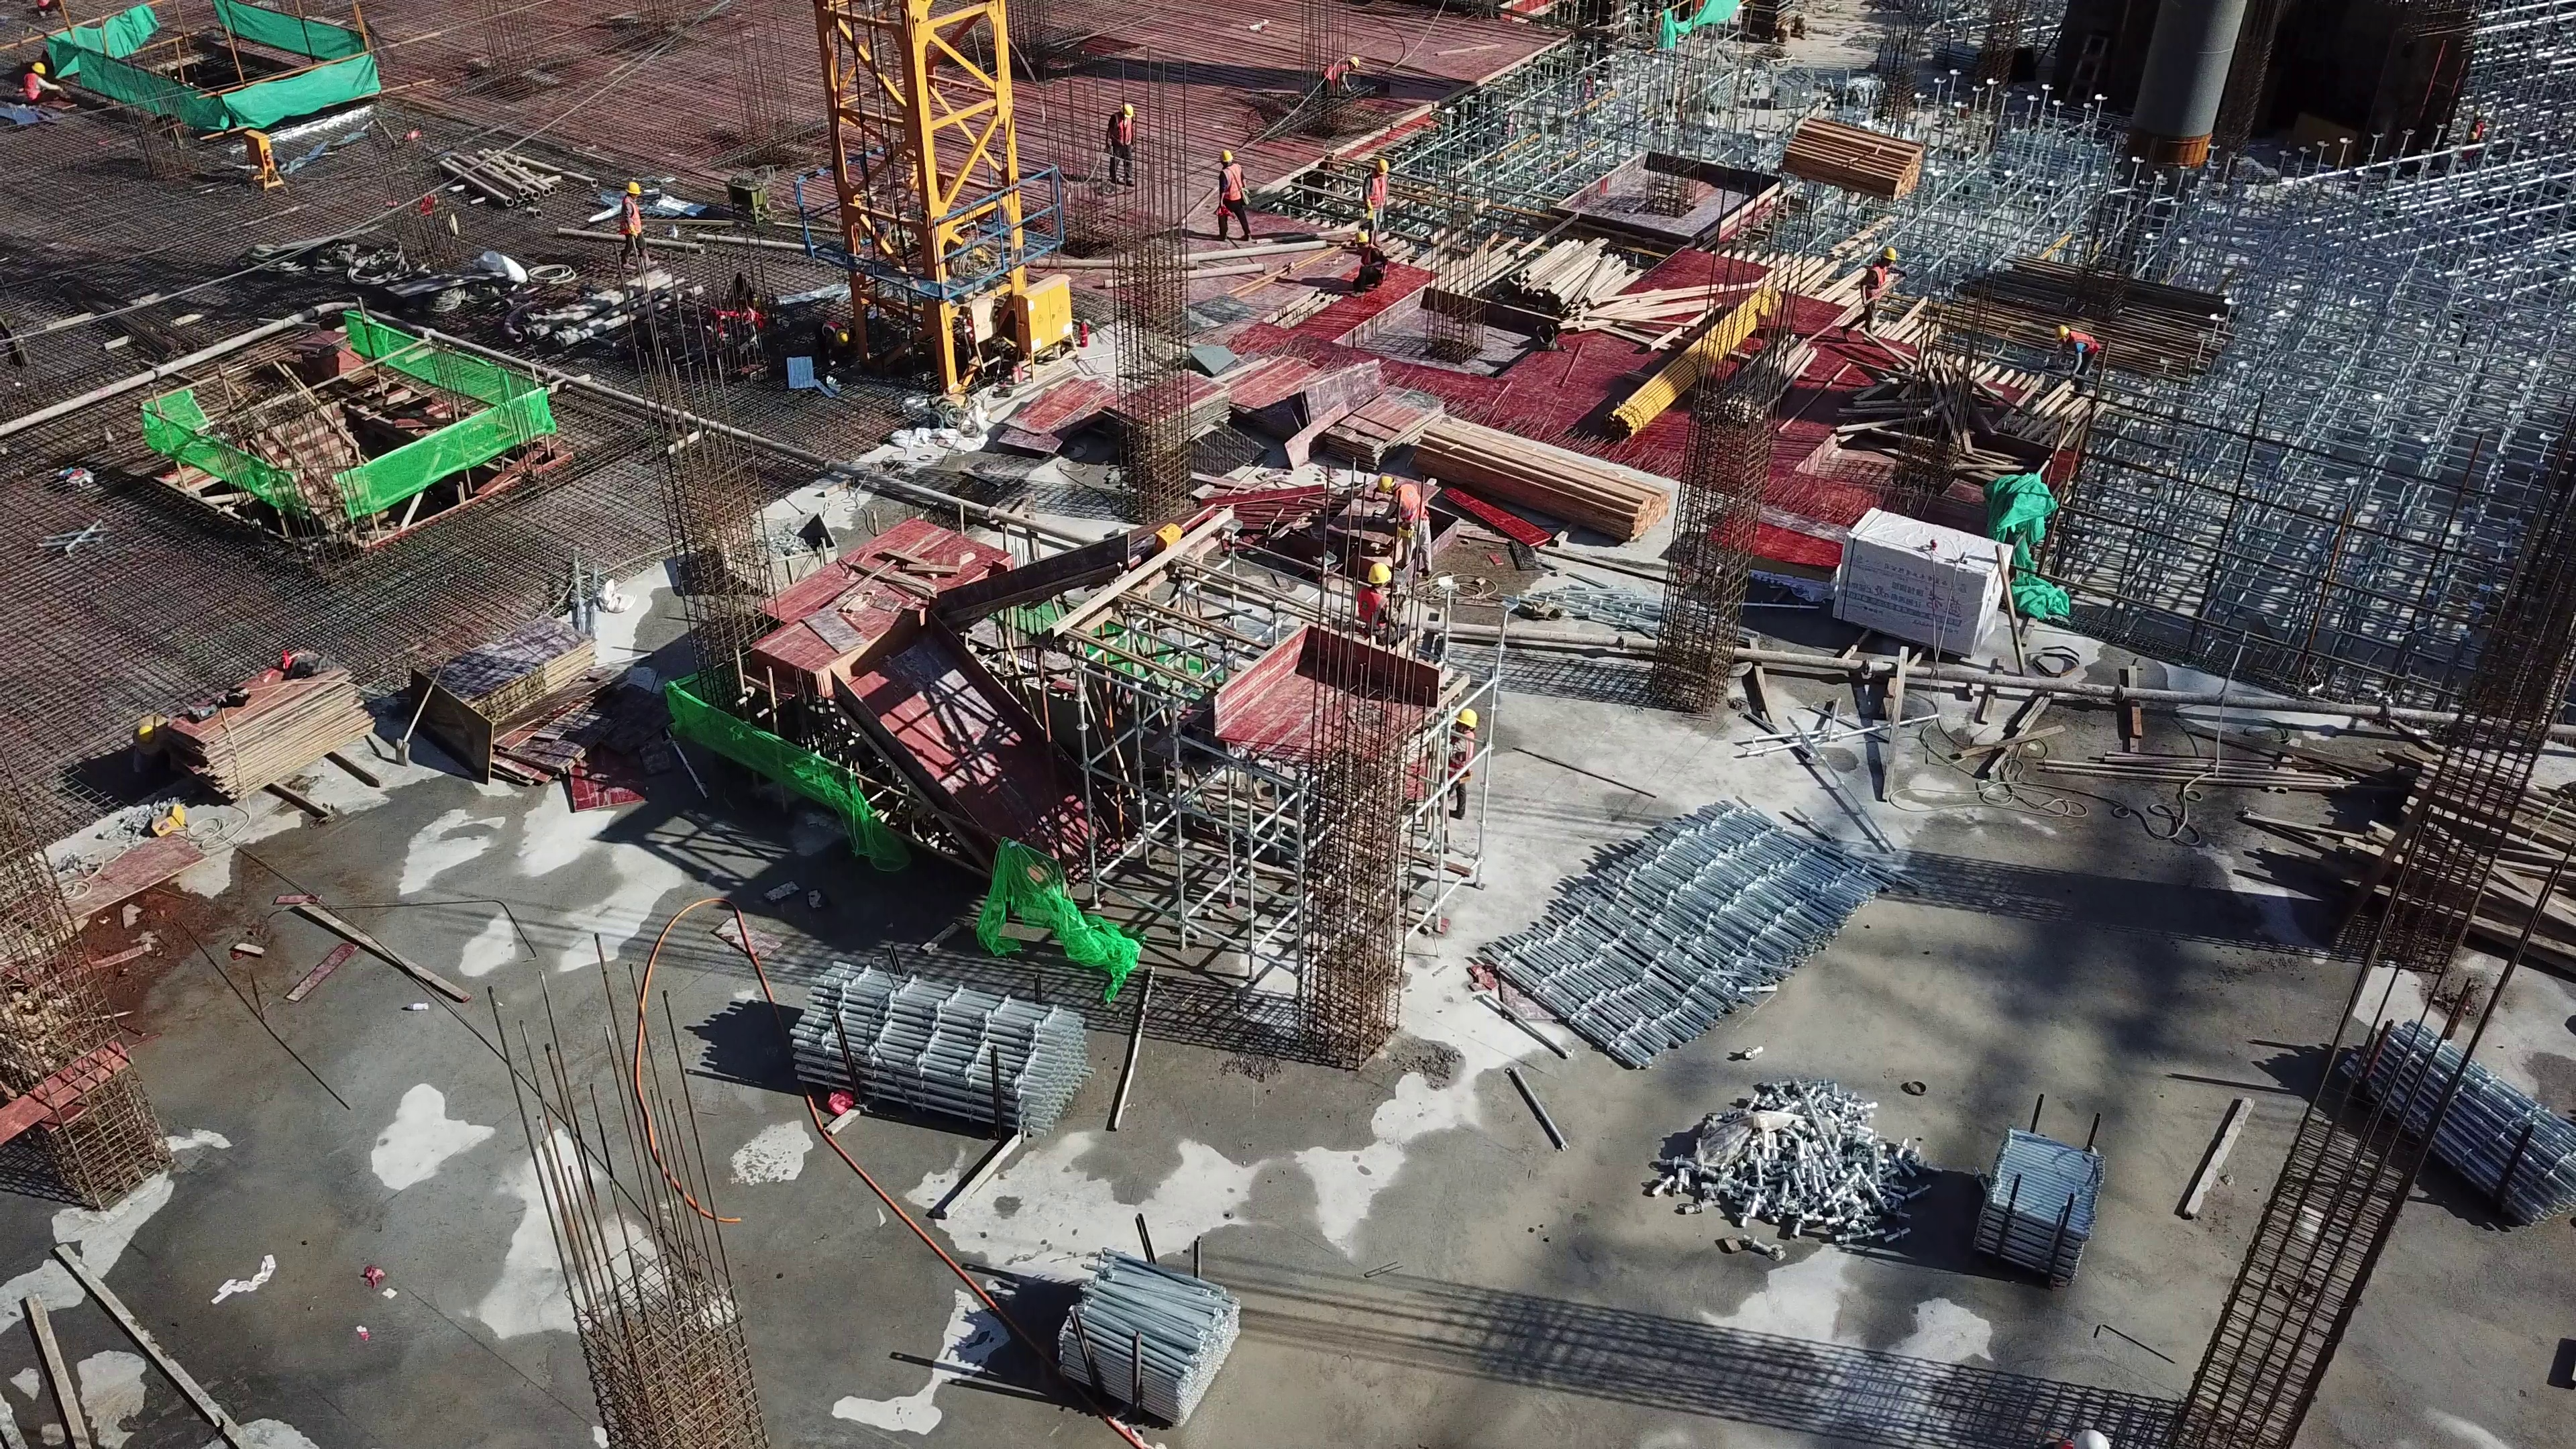board: (408, 622, 612, 800), (175, 657, 358, 806), (1207, 377, 1417, 468)
person: (1391, 447, 1438, 561), (1207, 147, 1254, 229), (1852, 240, 1896, 327), (1359, 144, 1394, 237), (609, 182, 647, 266), (1099, 100, 1137, 170), (2050, 325, 2094, 383)
scaffold: (1464, 792, 1901, 1065), (782, 963, 1091, 1138), (2327, 1019, 2576, 1236), (1035, 1246, 1242, 1436), (1980, 1127, 2106, 1281)
wood: (1426, 409, 1674, 552), (1485, 237, 1718, 339)
